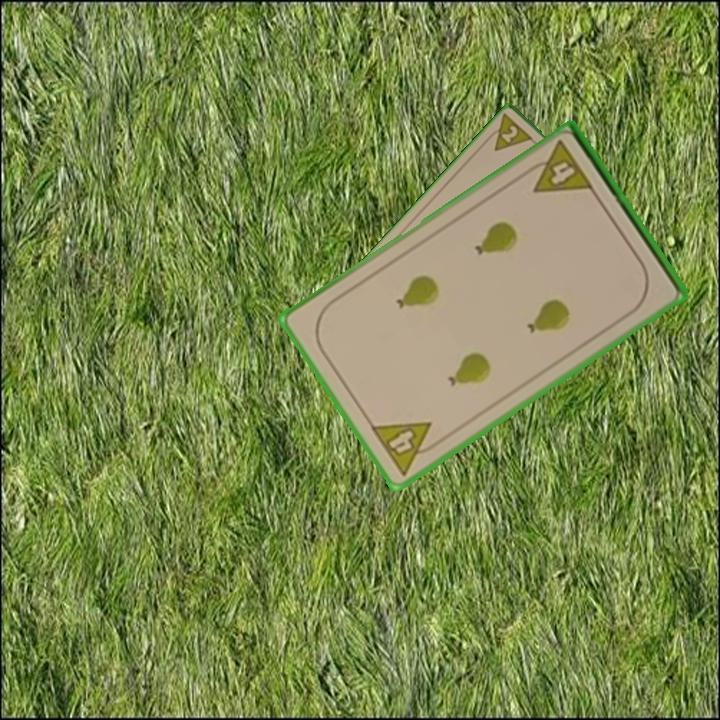2p: (481, 111, 537, 155)
4p: (366, 418, 446, 479), (520, 137, 597, 197)
